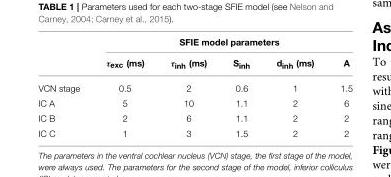table: (37, 37, 351, 137)
table column: (92, 37, 156, 137), (262, 37, 326, 137), (156, 37, 219, 137), (37, 37, 92, 137), (219, 37, 262, 137), (326, 37, 351, 137)
table column header: (37, 37, 351, 76)
table row: (37, 52, 351, 76), (37, 76, 351, 95), (37, 37, 351, 52), (37, 95, 351, 110), (37, 110, 351, 125), (37, 125, 351, 137)
table spanning cell: (92, 37, 351, 52)
